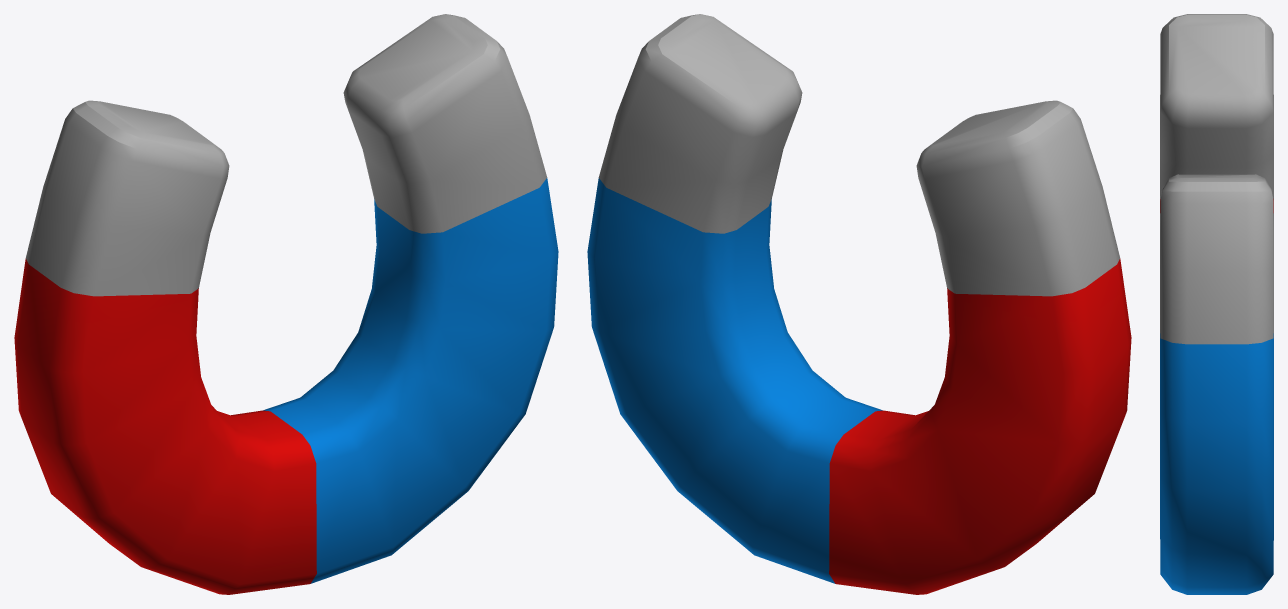
Rendered from Magnet_V3_0.fbx.
3 renders of one model, left to right at view 1: azimuth 30°, elevation 25°; view 2: azimuth 150°, elevation 25°; view 3: azimuth 270°, elevation 25°, orthographic. The views are drawn at different scales.
Parts seen in each view (by area): view 1: Magnet_V3_0; view 2: Magnet_V3_0; view 3: Magnet_V3_0.
Part boxes in pixels (x1=…): Magnet_V3_0: x1=14, y1=14, x2=558, y2=594; Magnet_V3_0: x1=587, y1=14, x2=1131, y2=594; Magnet_V3_0: x1=1160, y1=14, x2=1273, y2=594.
Size of the model in its own units: 0.4506 by 0.4251 by 0.0939.
